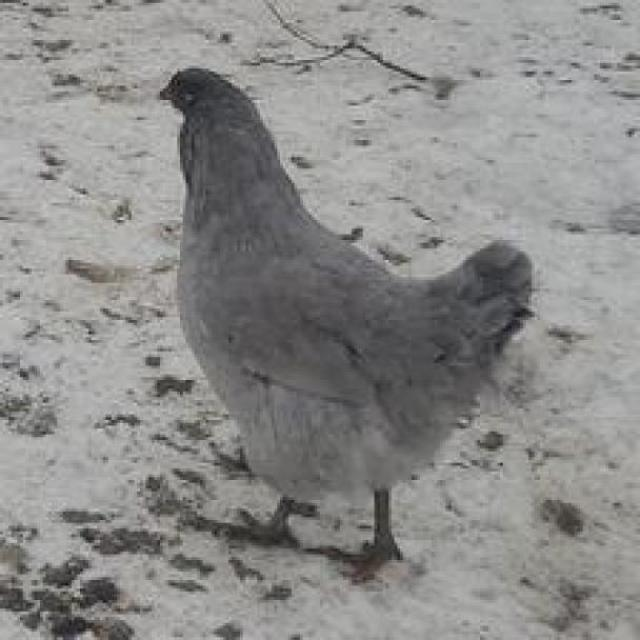Chicken: (127, 53, 567, 595)
